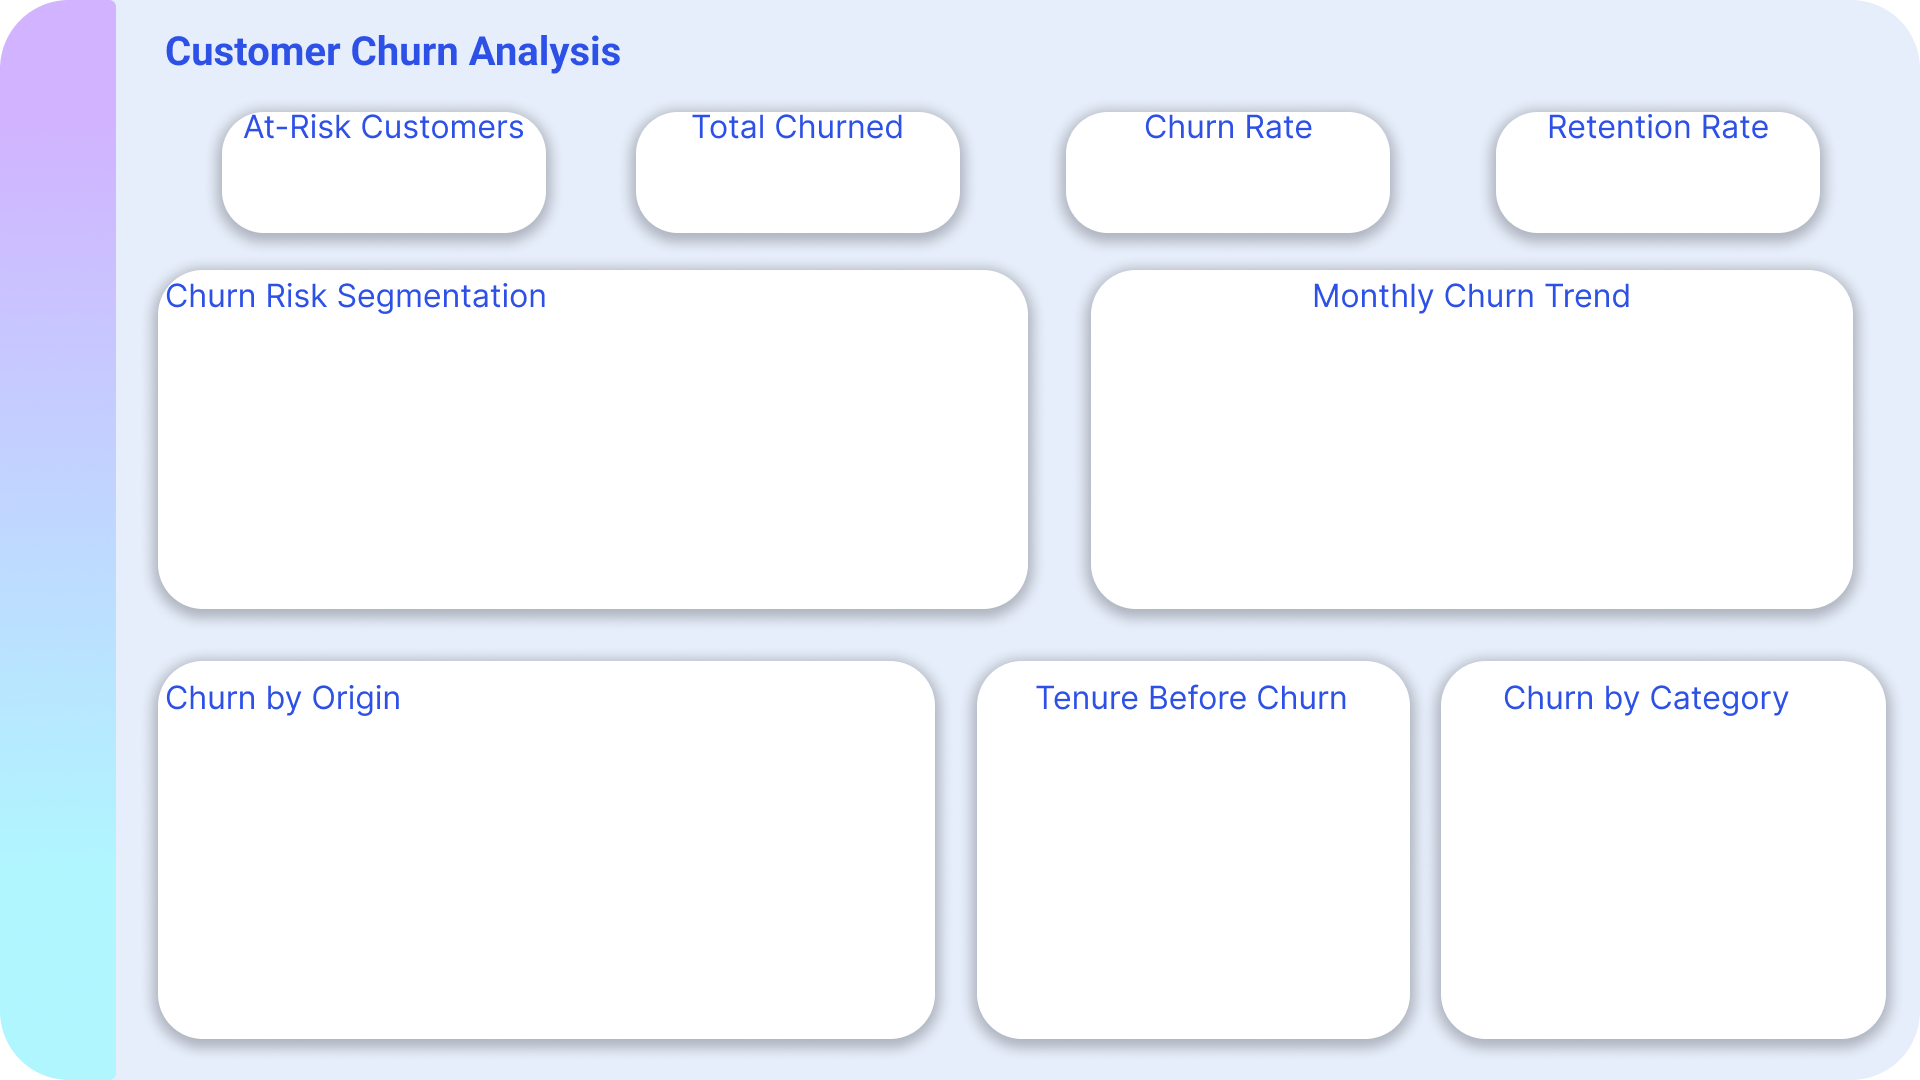

What the dashboard file says about the page in this screenshot:
{"tool":"tableau","page":{"name":"Dashboard 1","canvas":[1920,1080],"ordinal":0},"visuals":[{"type":"worksheet","title":"KPI - Retention Rate","mark":"Automatic","box":[1594,153,140,70]},{"type":"worksheet","title":"KPI - Churn Rate","mark":"Automatic","box":[1182,155,112,67]},{"type":"worksheet","title":"KPI - At Risk","mark":"Automatic","box":[351,158,57,57]},{"type":"worksheet","title":"KPI - Total Churned","mark":"Automatic","box":[763,158,57,57]},{"type":"worksheet","title":"Monthly Churn Trend","mark":"Bar","rows":["CustomerID"],"cols":["Churn_Month"],"box":[1119,313,694,282]},{"type":"worksheet","title":"Segment Treemap","mark":"Automatic","box":[191,317,806,276]},{"type":"worksheet","title":"Churn by Origin","mark":"Pie","rows":["Calculation_1154784893235201","Calculation_1154784893251587"],"box":[196,695,709,318]},{"type":"worksheet","title":"Tenure Before Churn","mark":"Automatic","rows":["CustomerID"],"cols":["Tenure_Months"],"box":[994,710,394,307]},{"type":"worksheet","title":"Churn by Category","mark":"Automatic","rows":["Product_Category"],"cols":["CustomerID"],"box":[1454,711,406,308]}]}

Visuals, with their boxes in screenshot pixels (x1, y1, x2, y2), scaled from the page's 1920x1080 canvas onto the 1920x1080 screenshot:
"KPI - Retention Rate" worksheet: {"left": 1594, "top": 153, "right": 1734, "bottom": 223}
"KPI - Churn Rate" worksheet: {"left": 1182, "top": 155, "right": 1294, "bottom": 222}
"KPI - At Risk" worksheet: {"left": 351, "top": 158, "right": 408, "bottom": 215}
"KPI - Total Churned" worksheet: {"left": 763, "top": 158, "right": 820, "bottom": 215}
"Monthly Churn Trend" worksheet (Bar marks): {"left": 1119, "top": 313, "right": 1813, "bottom": 595}
"Segment Treemap" worksheet: {"left": 191, "top": 317, "right": 997, "bottom": 593}
"Churn by Origin" worksheet (Pie marks): {"left": 196, "top": 695, "right": 905, "bottom": 1013}
"Tenure Before Churn" worksheet: {"left": 994, "top": 710, "right": 1388, "bottom": 1017}
"Churn by Category" worksheet: {"left": 1454, "top": 711, "right": 1860, "bottom": 1019}
